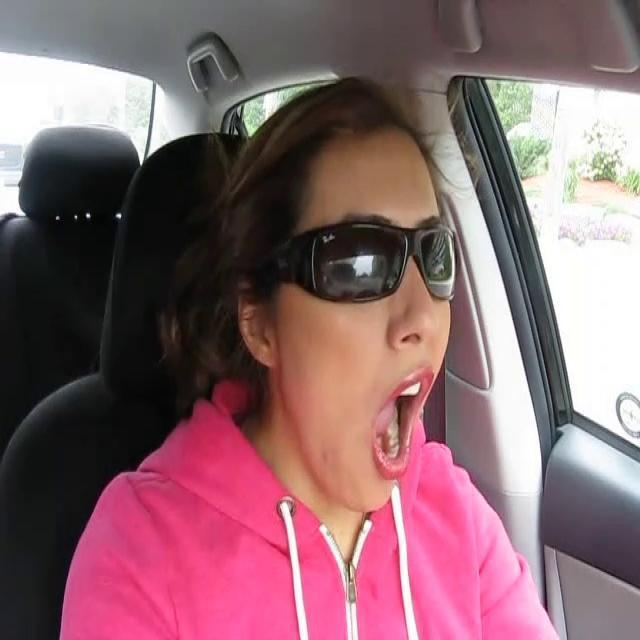open-mouth: (371, 374, 418, 469)
